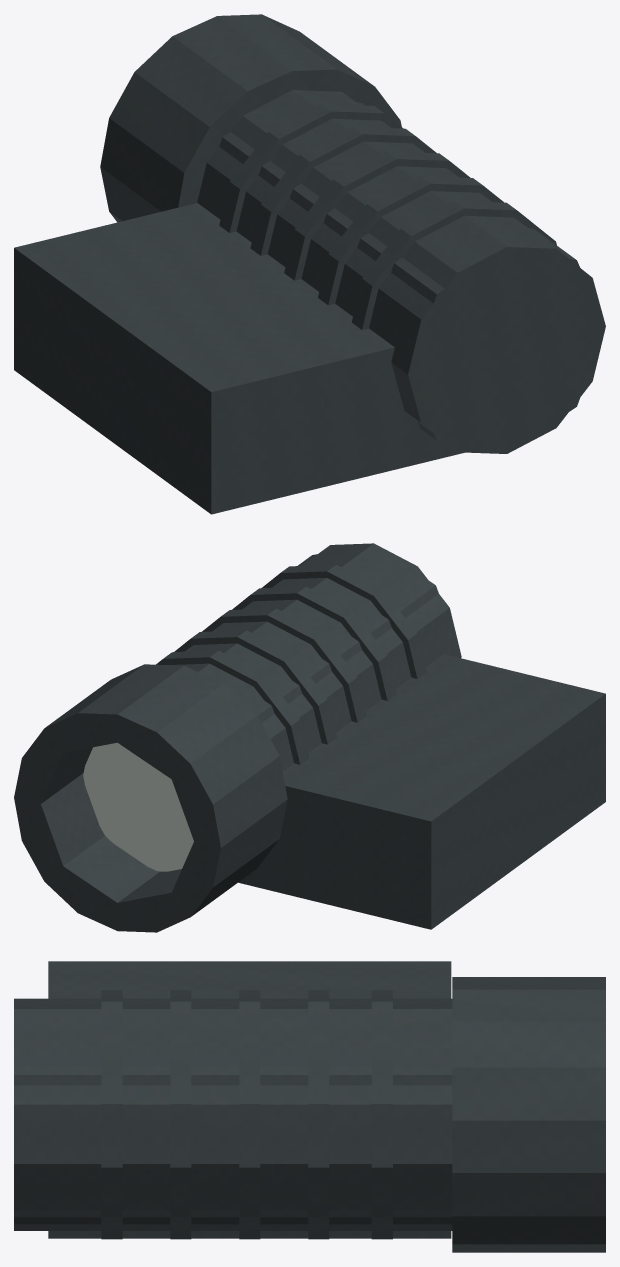
The model's file is light_compact.glb.
3 views of the same model, one above another, from view 1: azimuth 30°, elevation 25°; view 2: azimuth 150°, elevation 25°; view 3: azimuth 270°, elevation 25° (orthographic). The views are drawn at different scales.
Visible parts, largest first — view 1: light_compact_battery_tube, light_compact_battery_tube.001; view 2: light_compact_battery_tube, light_compact_battery_tube.001, light_compact_reflector; view 3: light_compact_battery_tube, light_compact_battery_tube.001.
Boxes of the visible parts, box(x1,y1,x2,y2) form: light_compact_battery_tube: box(14, 14, 605, 514); light_compact_battery_tube.001: box(181, 71, 605, 453); light_compact_battery_tube: box(14, 543, 605, 932); light_compact_battery_tube.001: box(15, 554, 438, 930); light_compact_reflector: box(83, 742, 193, 871); light_compact_battery_tube: box(14, 961, 605, 1252); light_compact_battery_tube.001: box(14, 1067, 452, 1224).
Size of the model in its own units: 0.088 by 0.052 by 0.1116.
Materials: 2 (1 with a texture image).
